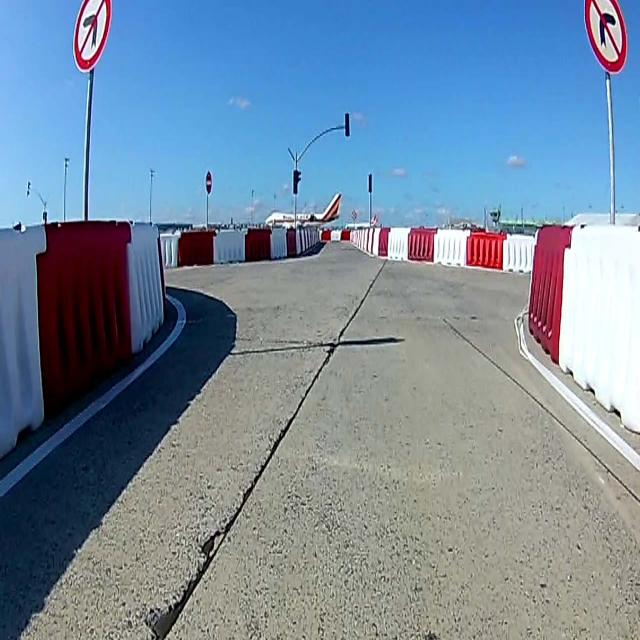sagadonulmez: (587, 1, 627, 71)
soladonulmez: (75, 1, 112, 75)
